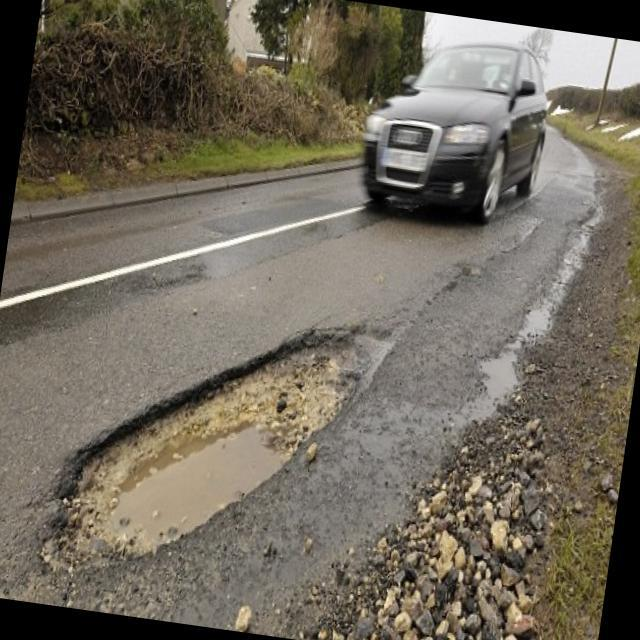Pothole: (34, 274, 402, 598)
